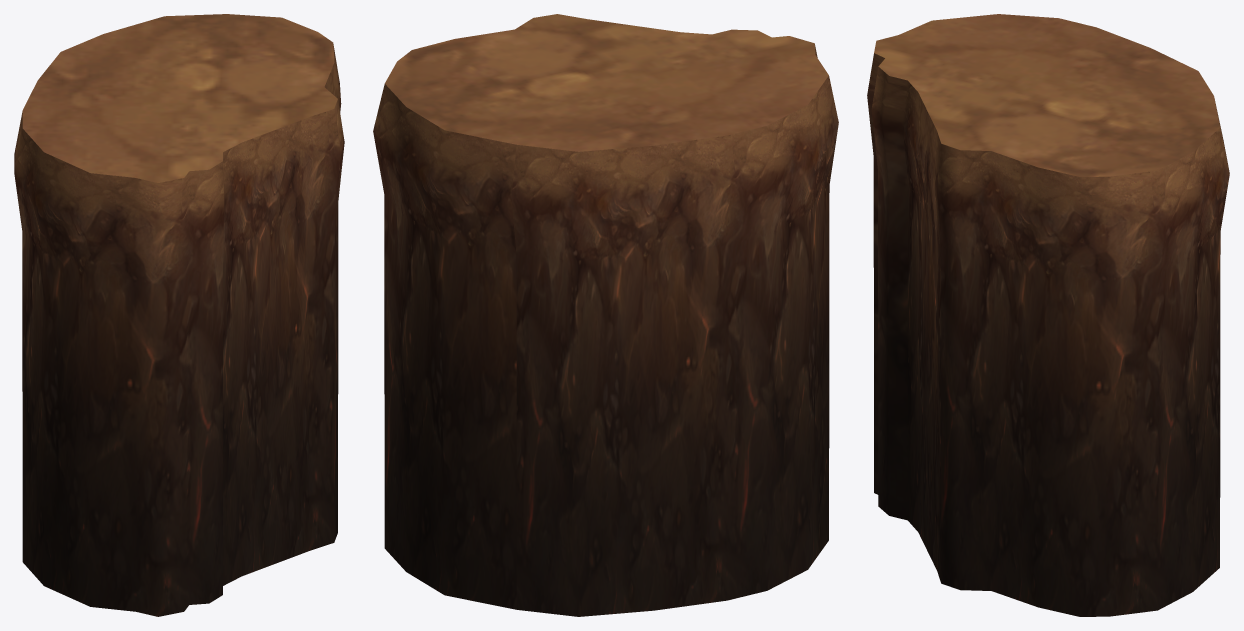
Rendered from DiZuo03.FBX.
The picture shows the model from 3 angles, left to right: view 1: azimuth 30°, elevation 25°; view 2: azimuth 150°, elevation 25°; view 3: azimuth 270°, elevation 25°; orthographic projection. The views are drawn at different scales.
Visible parts, largest first — view 1: DiZuo03, DiZuo03b; view 2: DiZuo03, DiZuo03b; view 3: DiZuo03, DiZuo03b.
Boxes of the visible parts, box(x1,y1,x2,y2) form: DiZuo03: box(14, 44, 344, 616); DiZuo03b: box(22, 14, 337, 182); DiZuo03: box(373, 44, 838, 616); DiZuo03b: box(385, 14, 828, 151); DiZuo03: box(867, 53, 1229, 616); DiZuo03b: box(874, 14, 1219, 176).
Bounding box in the file's own units: 983 × 1180 × 882.
